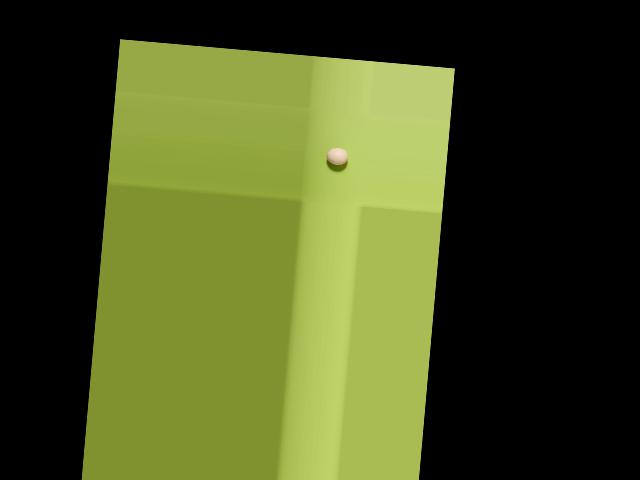egg: (325, 147, 348, 166)
